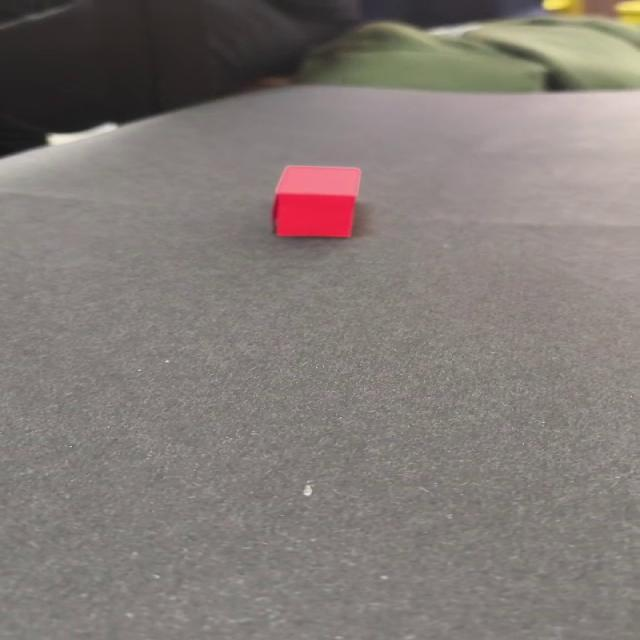red block: (272, 164, 361, 238)
